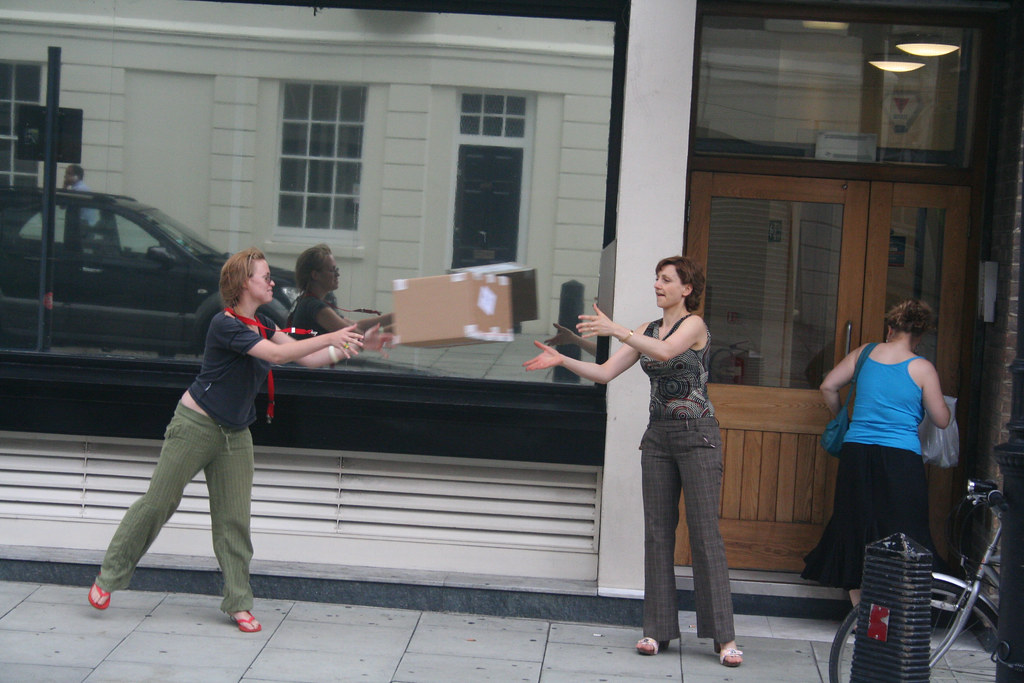throw: (184, 226, 533, 470), (378, 232, 721, 420)
